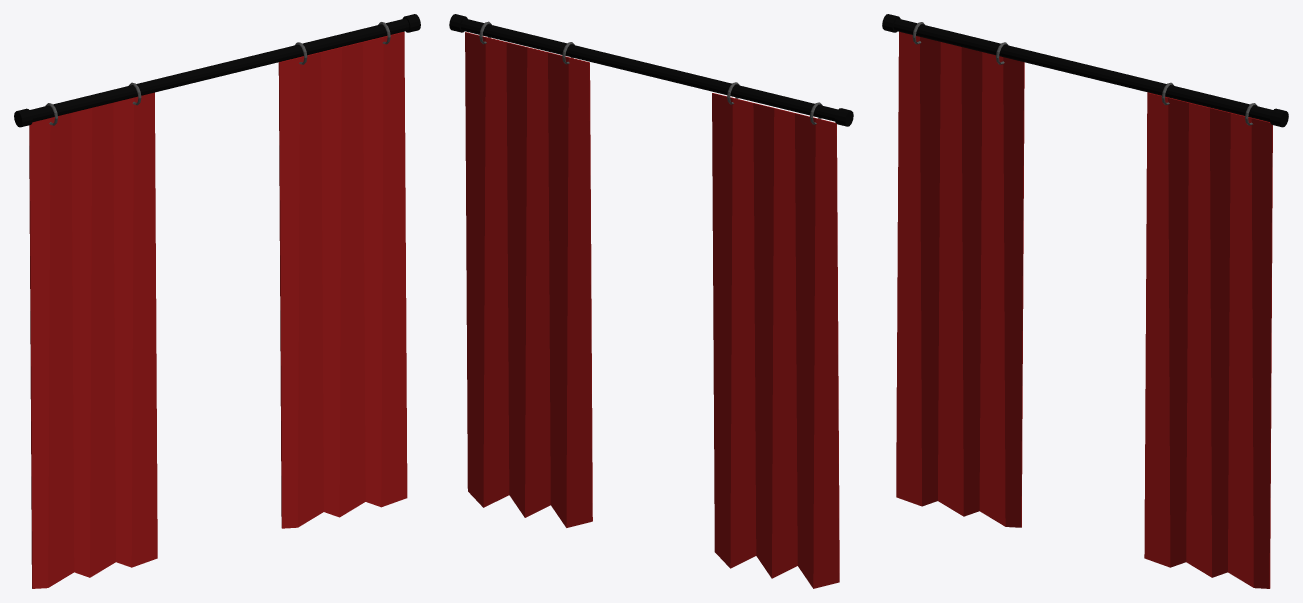
The model's file is window_screen_3.fbx.
3 views of the same model, side by side, from view 1: azimuth 30°, elevation 25°; view 2: azimuth 150°, elevation 25°; view 3: azimuth 330°, elevation 25° (orthographic).
Parts seen in each view (by area): view 1: window_screen.002; view 2: window_screen.002; view 3: window_screen.002.
Boxes of the visible parts, x1=… form: window_screen.002: x1=14, y1=14, x2=420, y2=588; window_screen.002: x1=449, y1=14, x2=853, y2=588; window_screen.002: x1=882, y1=14, x2=1288, y2=588.
Size of the model in its own units: 3.54 by 4.13 by 0.1805.
